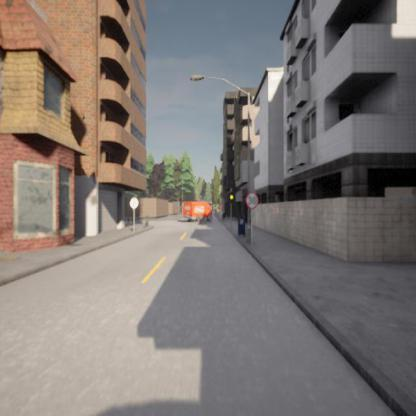traffic_light_orange: (228, 193, 234, 202)
traffic_sign_30: (245, 191, 259, 209)
vehicle: (182, 201, 212, 223)
